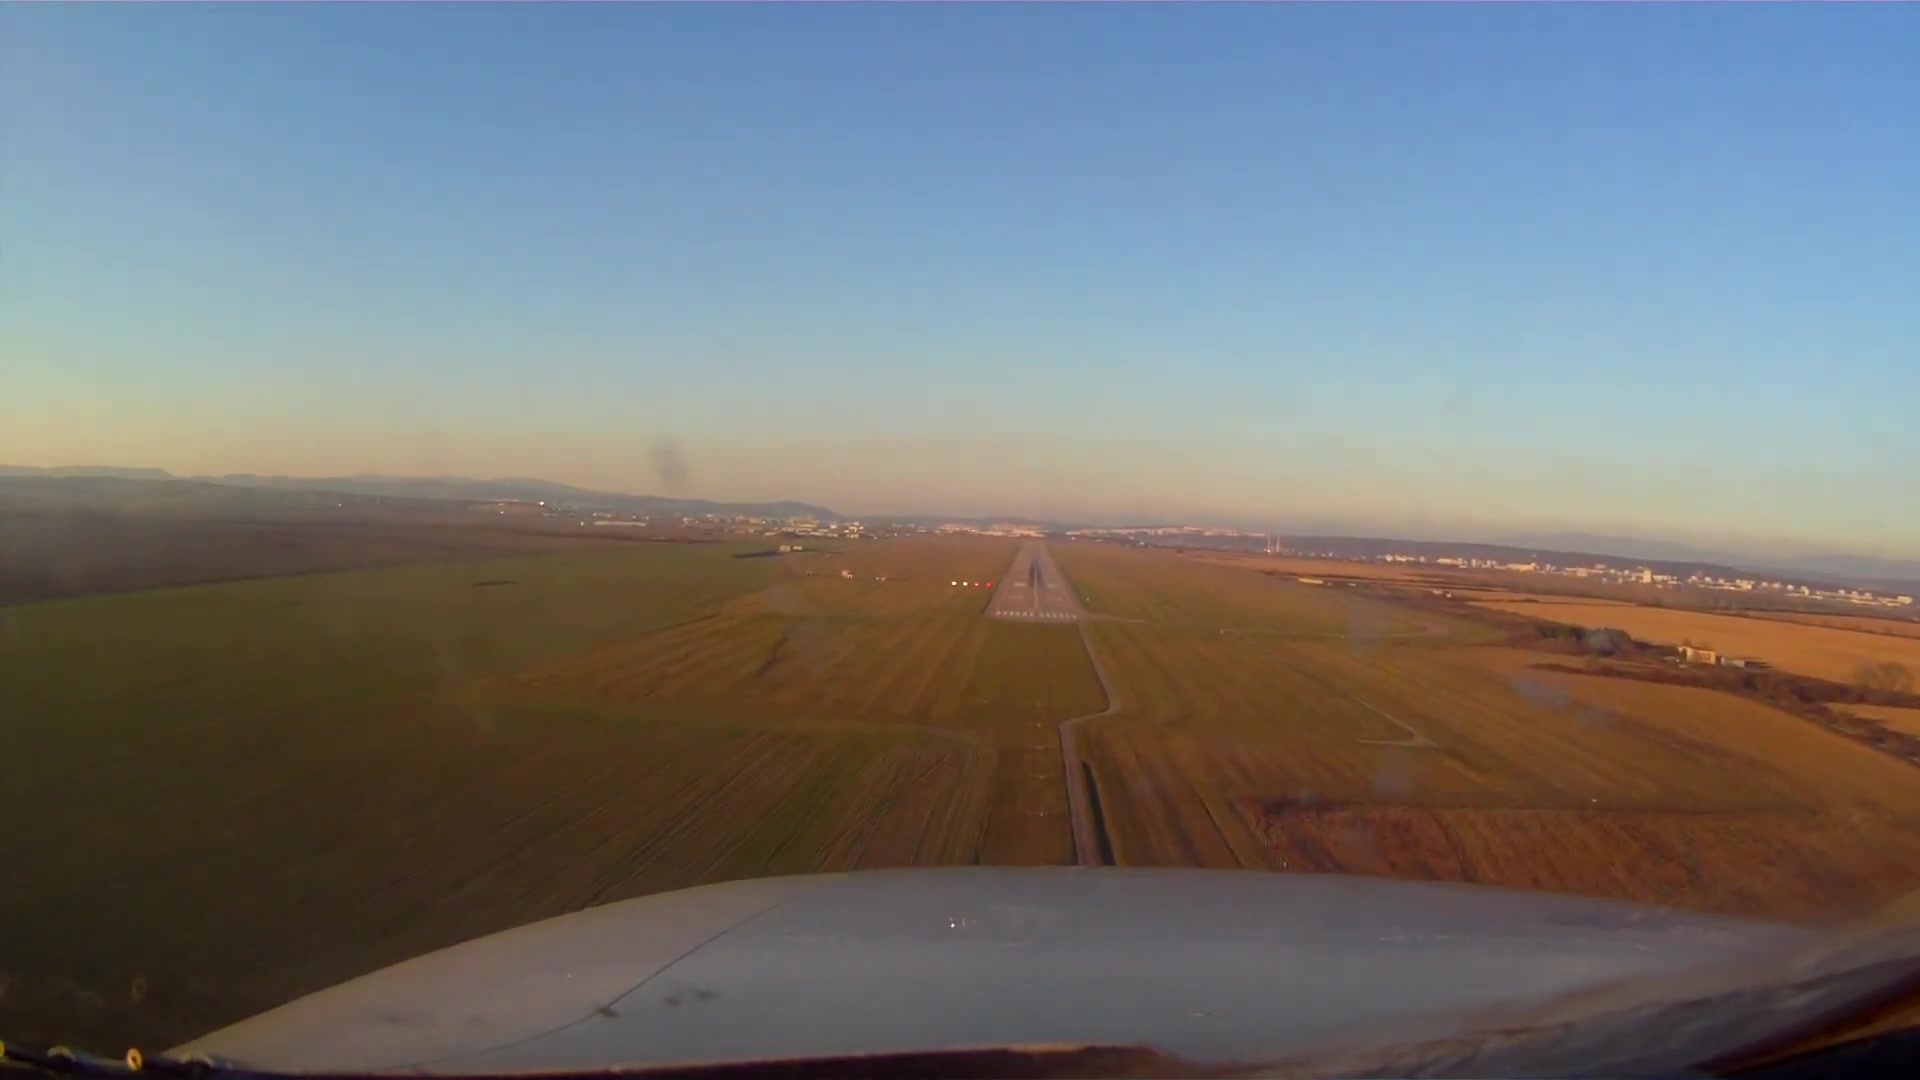entrance: (996, 607, 1079, 618)
runway: (982, 542, 1088, 622)
